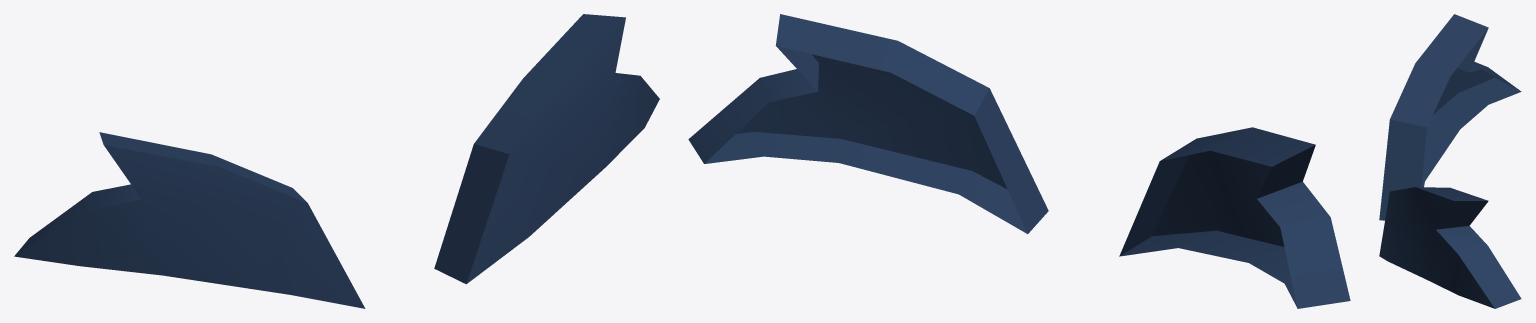
Rendered from Brow_Blue_6.fbx.
3 views of the same model, side by side, from view 1: azimuth 30°, elevation 25°; view 2: azimuth 150°, elevation 25°; view 3: azimuth 270°, elevation 25° (orthographic). The views are drawn at different scales.
Parts seen in each view (by area): view 1: Brow_Blue_6; view 2: Brow_Blue_6; view 3: Brow_Blue_6.
Part boxes in pixels (x1,y1,x2,y2): Brow_Blue_6: (14,14,659,308); Brow_Blue_6: (688,14,1350,308); Brow_Blue_6: (1379,14,1521,308).
Size of the model in its own units: 40.86 by 10.89 by 10.63.
